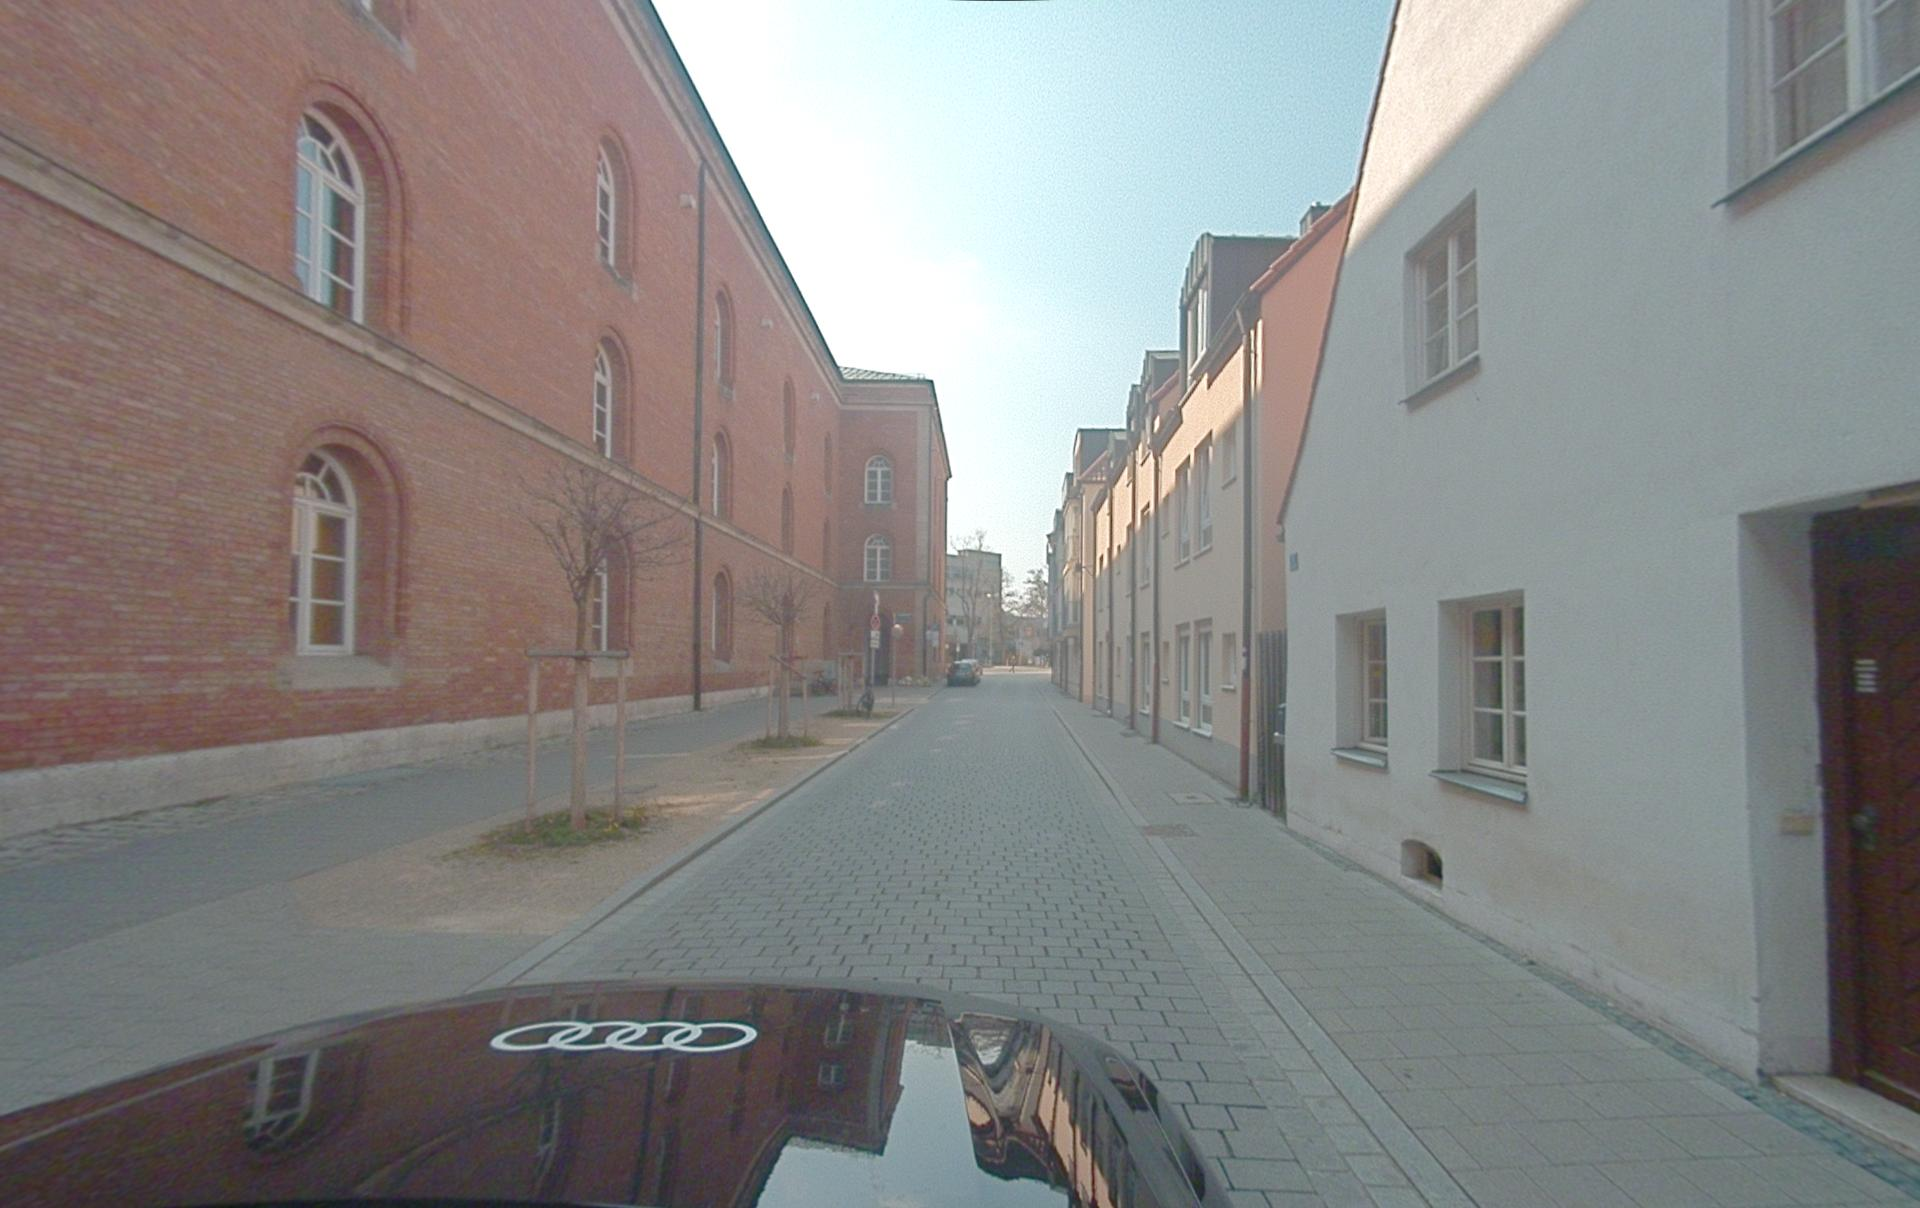car: (1, 978, 1236, 1207), (946, 658, 982, 686)
